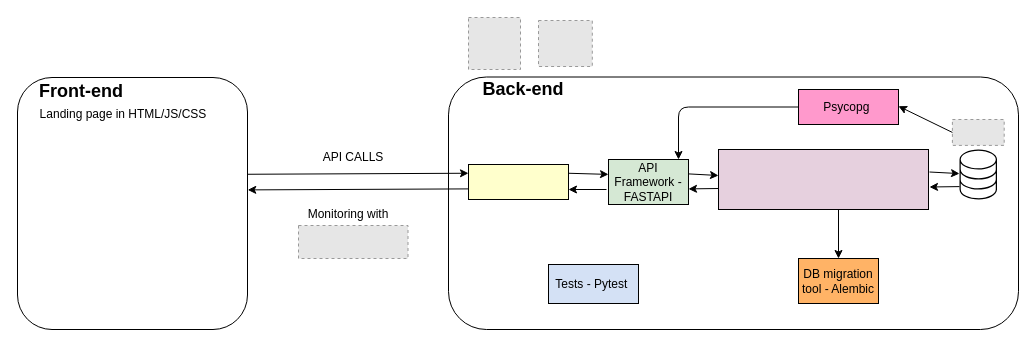
Image size: 1036x347. Some labels were removed from this diagram. Grey dashed boxes stand in for pictures. Here are the shapes that lost their labels. From the top down, the centre of each, then its label:
At point 518,182: "Schéma/Pydantic models".
At point 823,179: "Object Relational Mapper (ORM) - SQL Alchemy".
